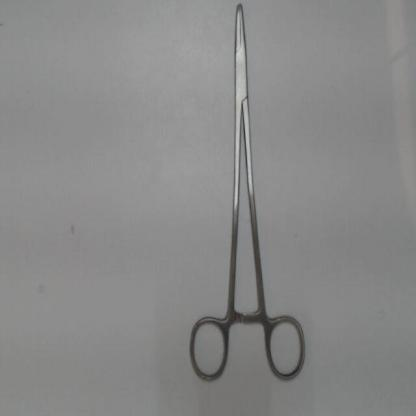8 Mayo Needle Holder: (185, 2, 313, 389)
